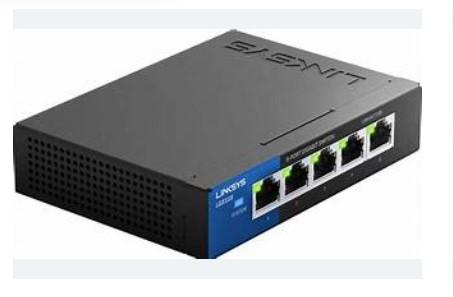NetworkSwitch: (12, 29, 423, 260)
